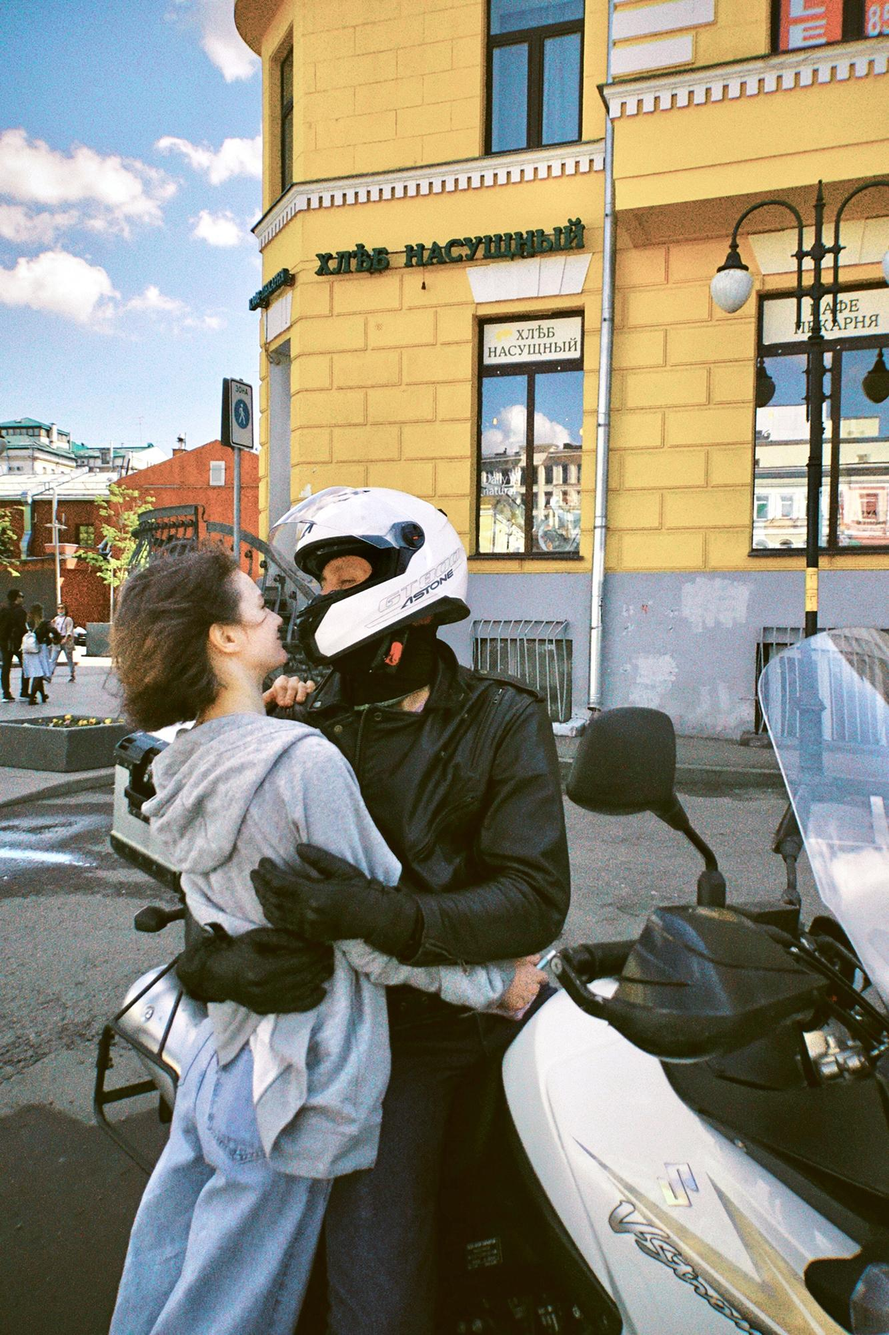helmet: (265, 483, 474, 671)
nohelmet: (109, 543, 293, 725)
